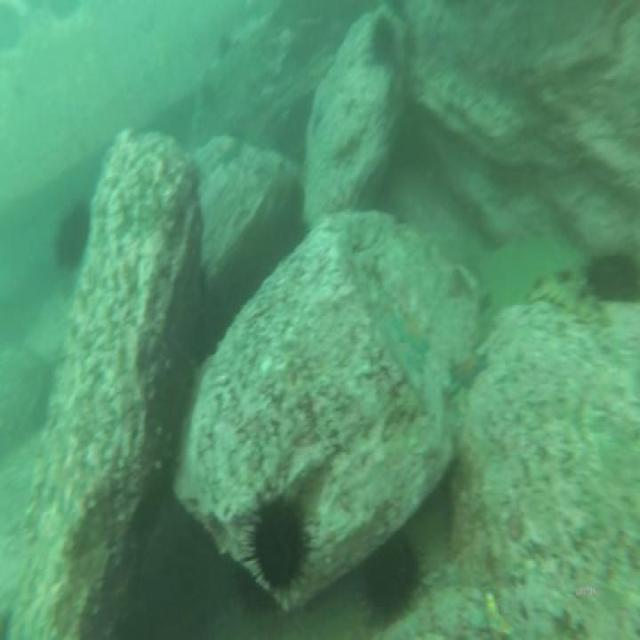echinus: (244, 491, 310, 599), (361, 534, 421, 621), (586, 243, 640, 312), (54, 201, 94, 275), (370, 12, 400, 62)
starfish: (387, 304, 432, 364), (447, 346, 490, 400)
